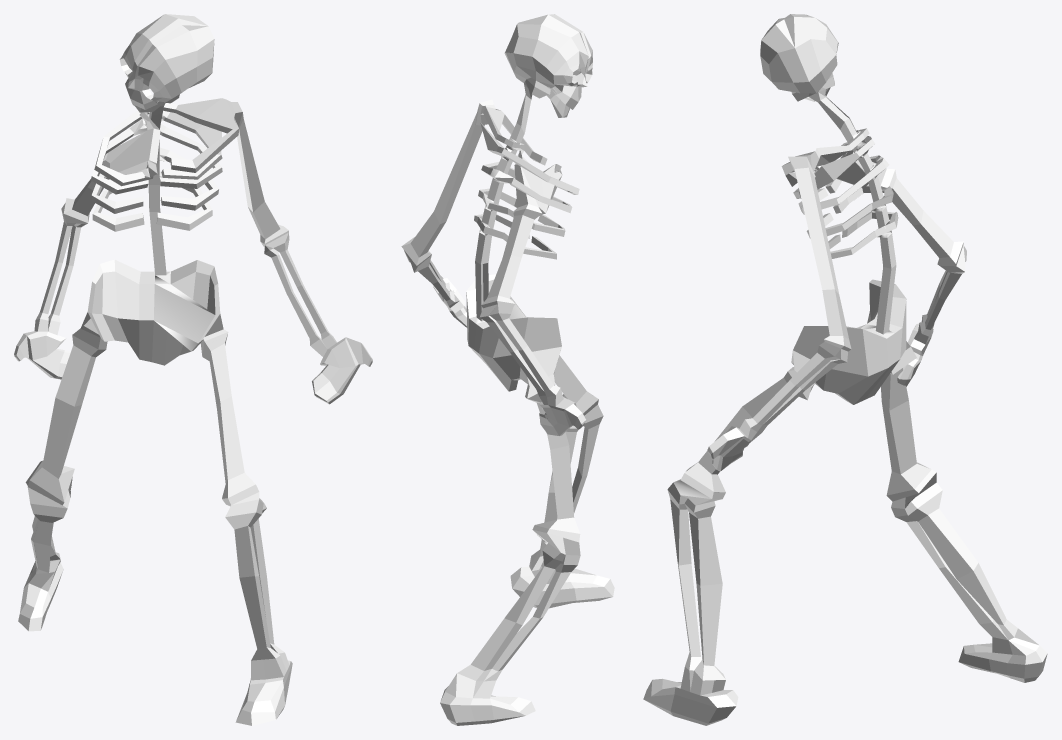
The model's file is SkeletonIdle(56).obj.
3 views of the same model, side by side, from view 1: azimuth 30°, elevation 25°; view 2: azimuth 150°, elevation 25°; view 3: azimuth 270°, elevation 25° (orthographic). The views are drawn at different scales.
Visible parts, largest first — view 1: Object002; view 2: Object002; view 3: Object002.
Part boxes in pixels (x1=…): Object002: x1=14, y1=14, x2=372, y2=725; Object002: x1=401, y1=14, x2=614, y2=725; Object002: x1=643, y1=14, x2=1047, y2=725.
Size of the model in its own units: 454 by 1120 by 606.
